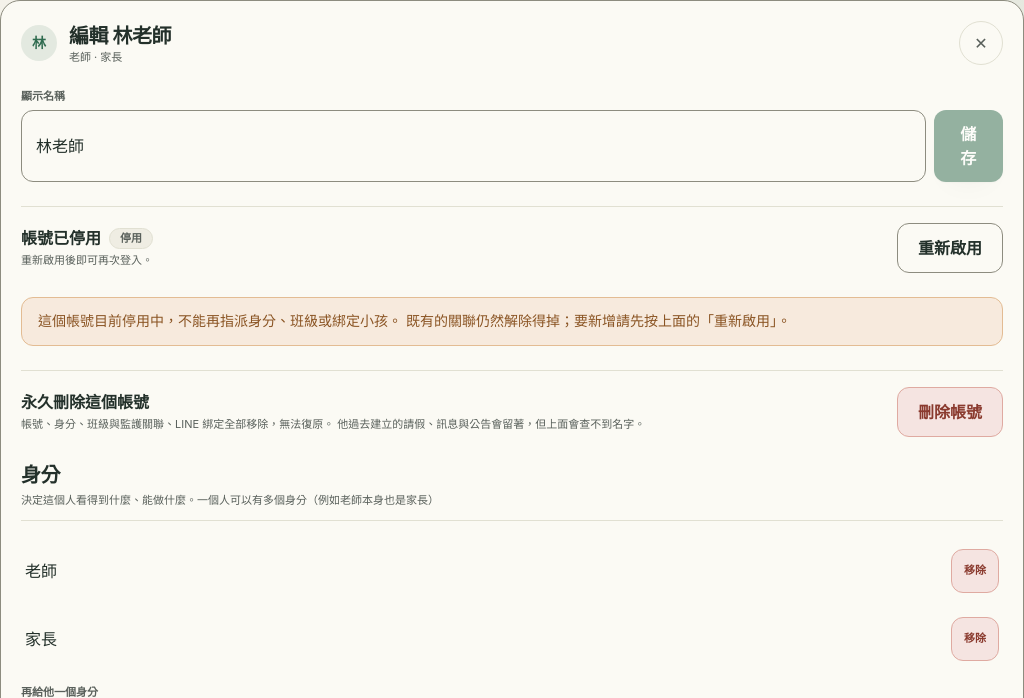
Test case: 人員編輯面板的刪除帳號 › 帳號已停用 → 出現刪除入口，但先問一次並說明會失去什麼
Click the button "刪除帳號".
click(950, 412)  # box [897, 387, 1003, 437]
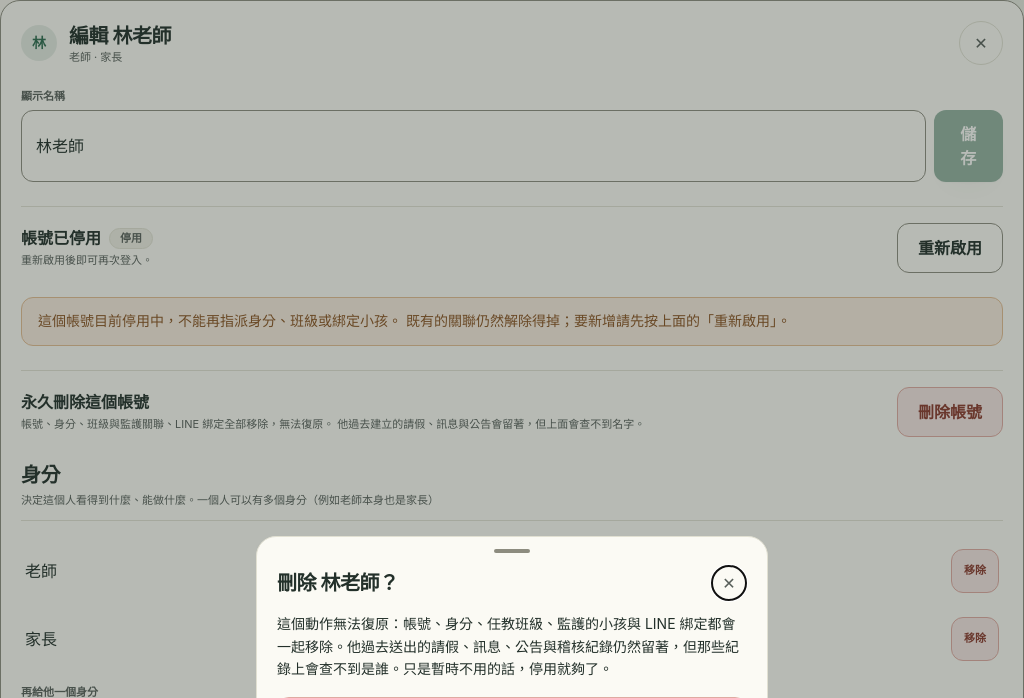
Result: the text "只是暫時不用的話，停用就夠了" is shown at [277, 615, 739, 677]
